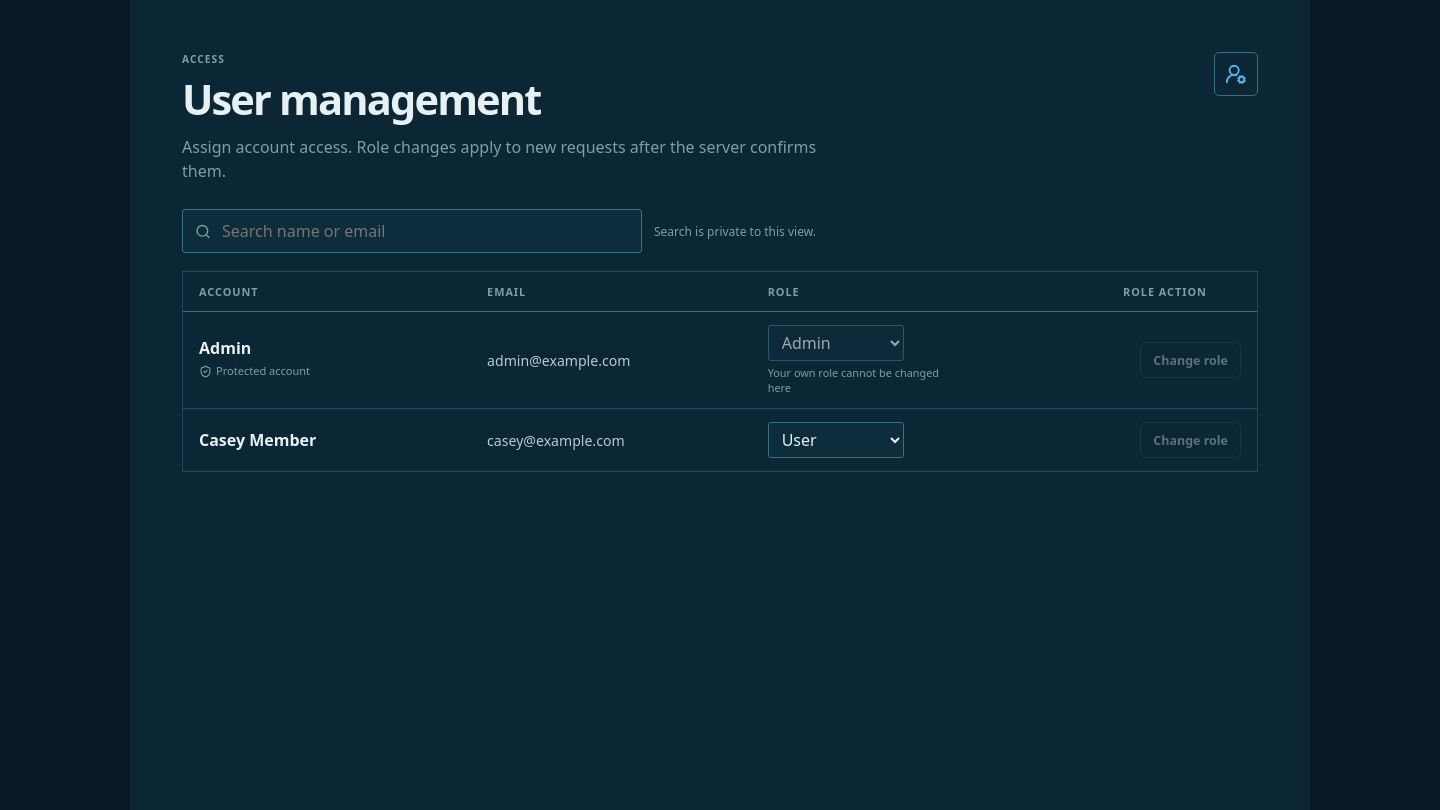
UserManagementView › confirms role changes and updates the row only from the server response
Expected: the text "Casey Member" is shown, [199,429,316,451]
Select "Maintainer" in the dropdown named "Role for casey@example.com": (836, 440) [768,422,904,458]
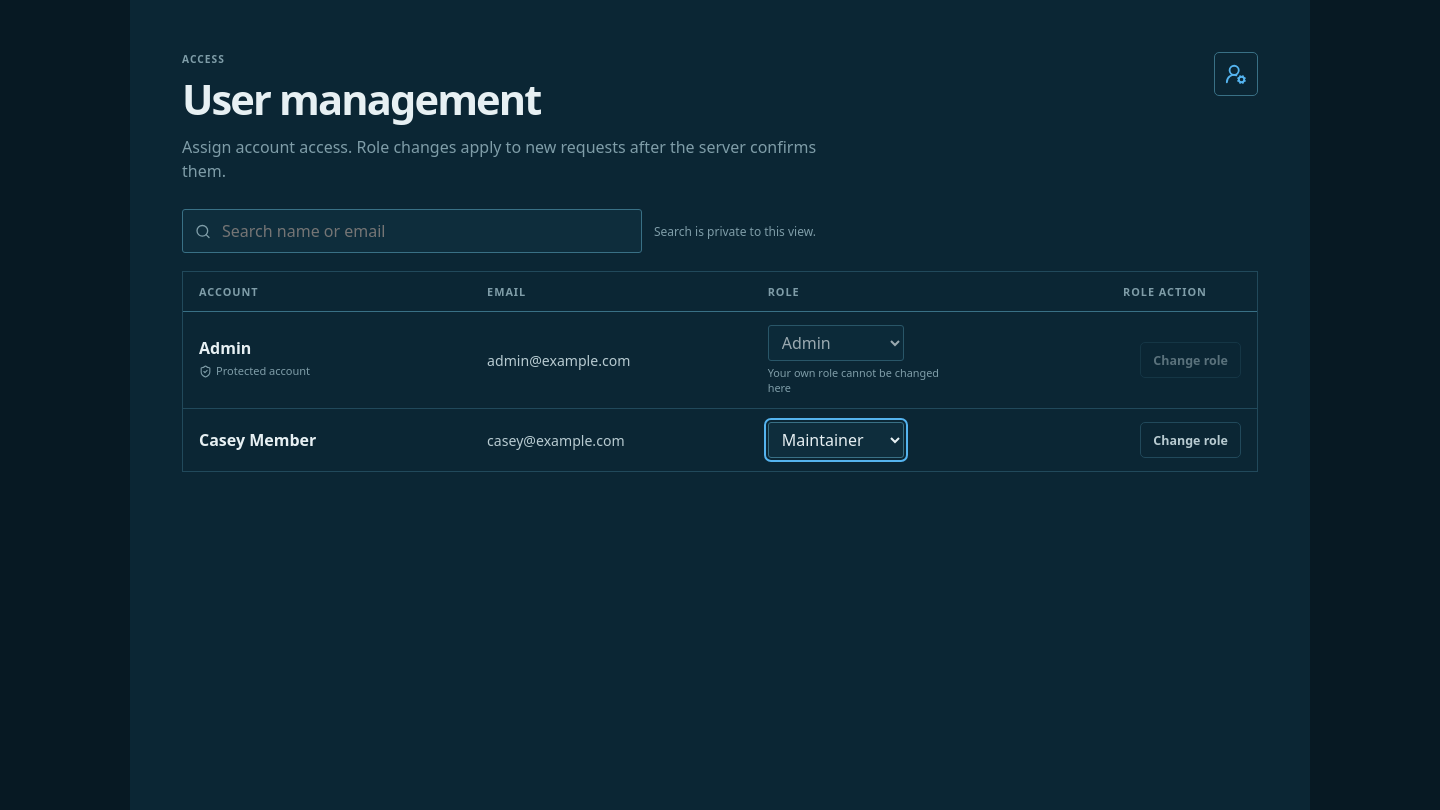
Click the button "Change role" in the row of "Casey Member": (1191, 440) [1140,422,1241,458]
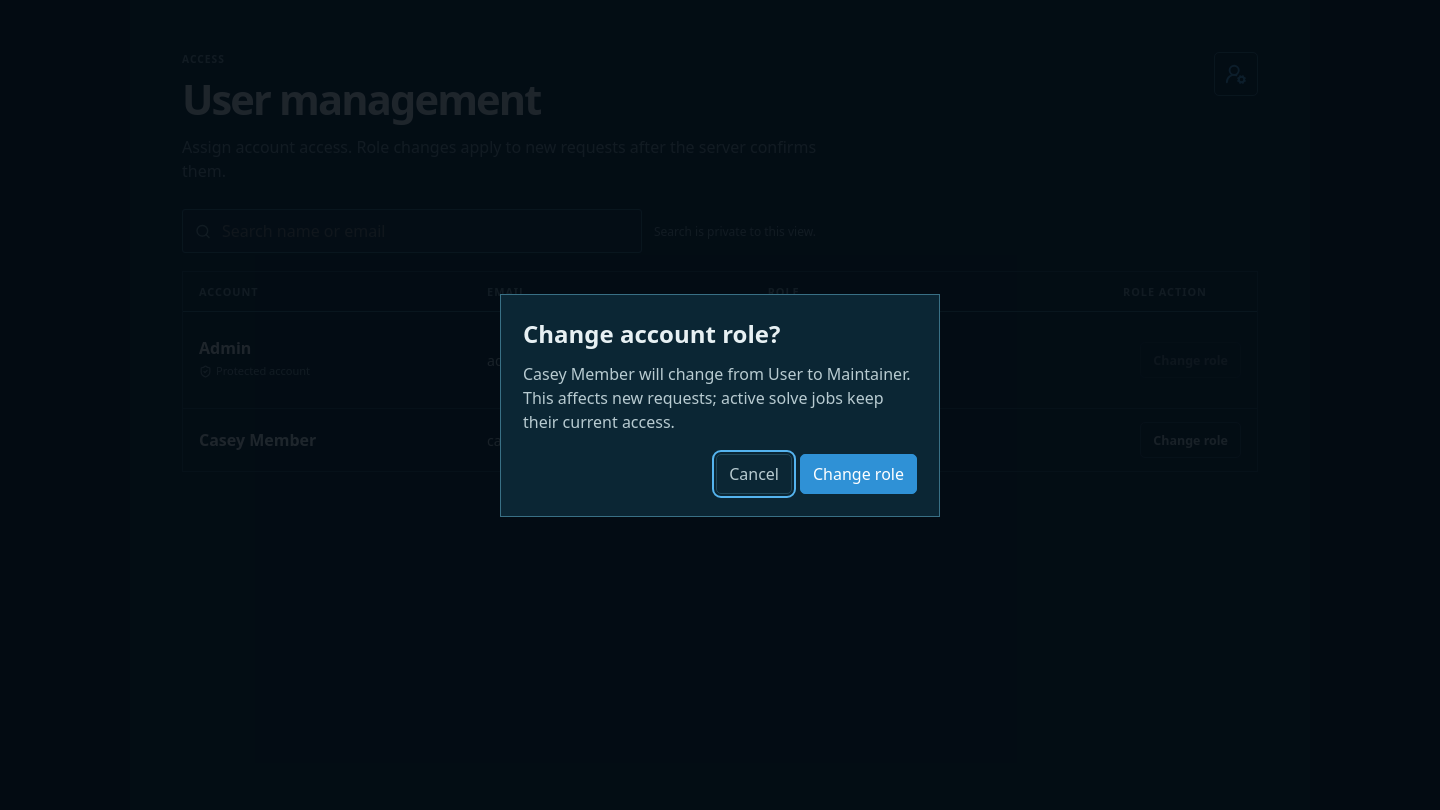
Expected: the dialog "Change account role?" shows "Casey Member will change from User to Maintainer", [523,362,910,432]
Click the button "Change role": (858, 474) [800,454,917,494]
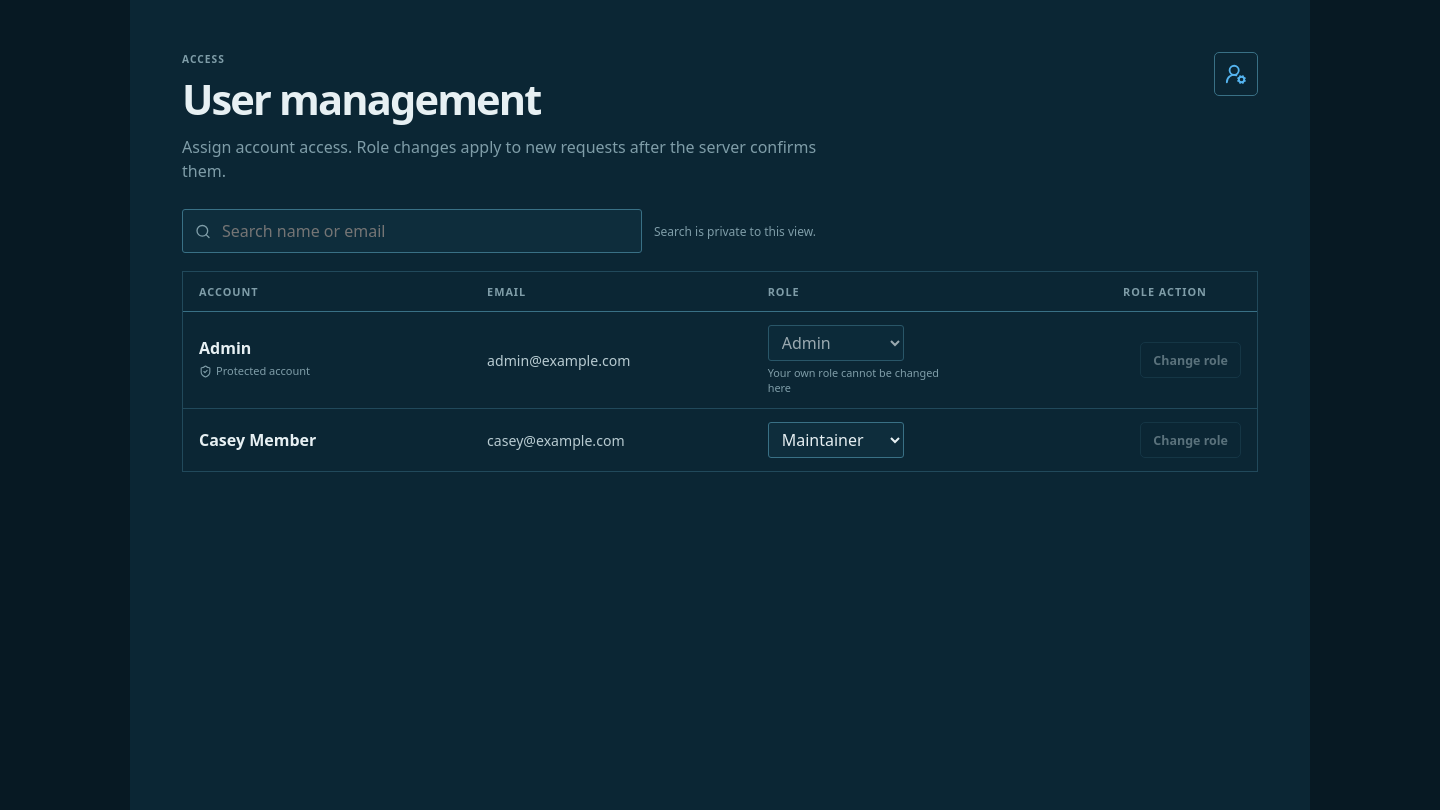
Expected: the dialog is gone
